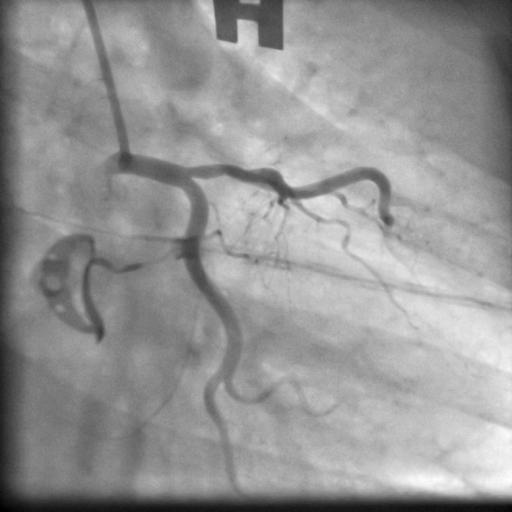Stenosis: (199, 160, 244, 180)
